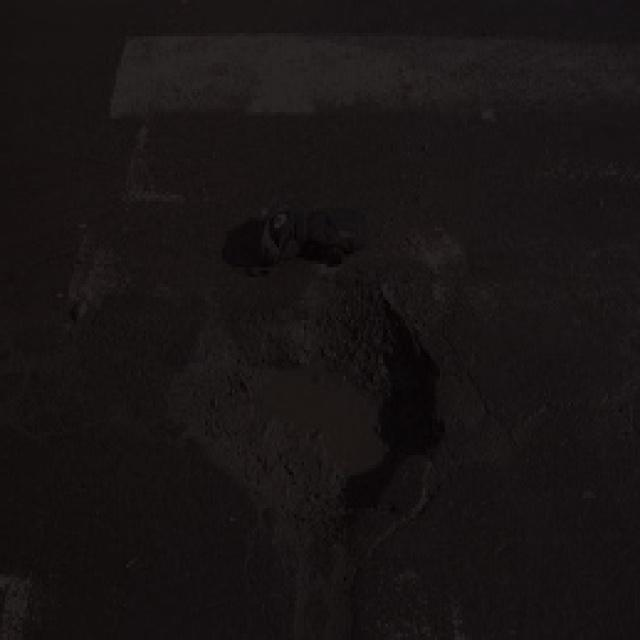Pothole: (165, 273, 442, 536)
